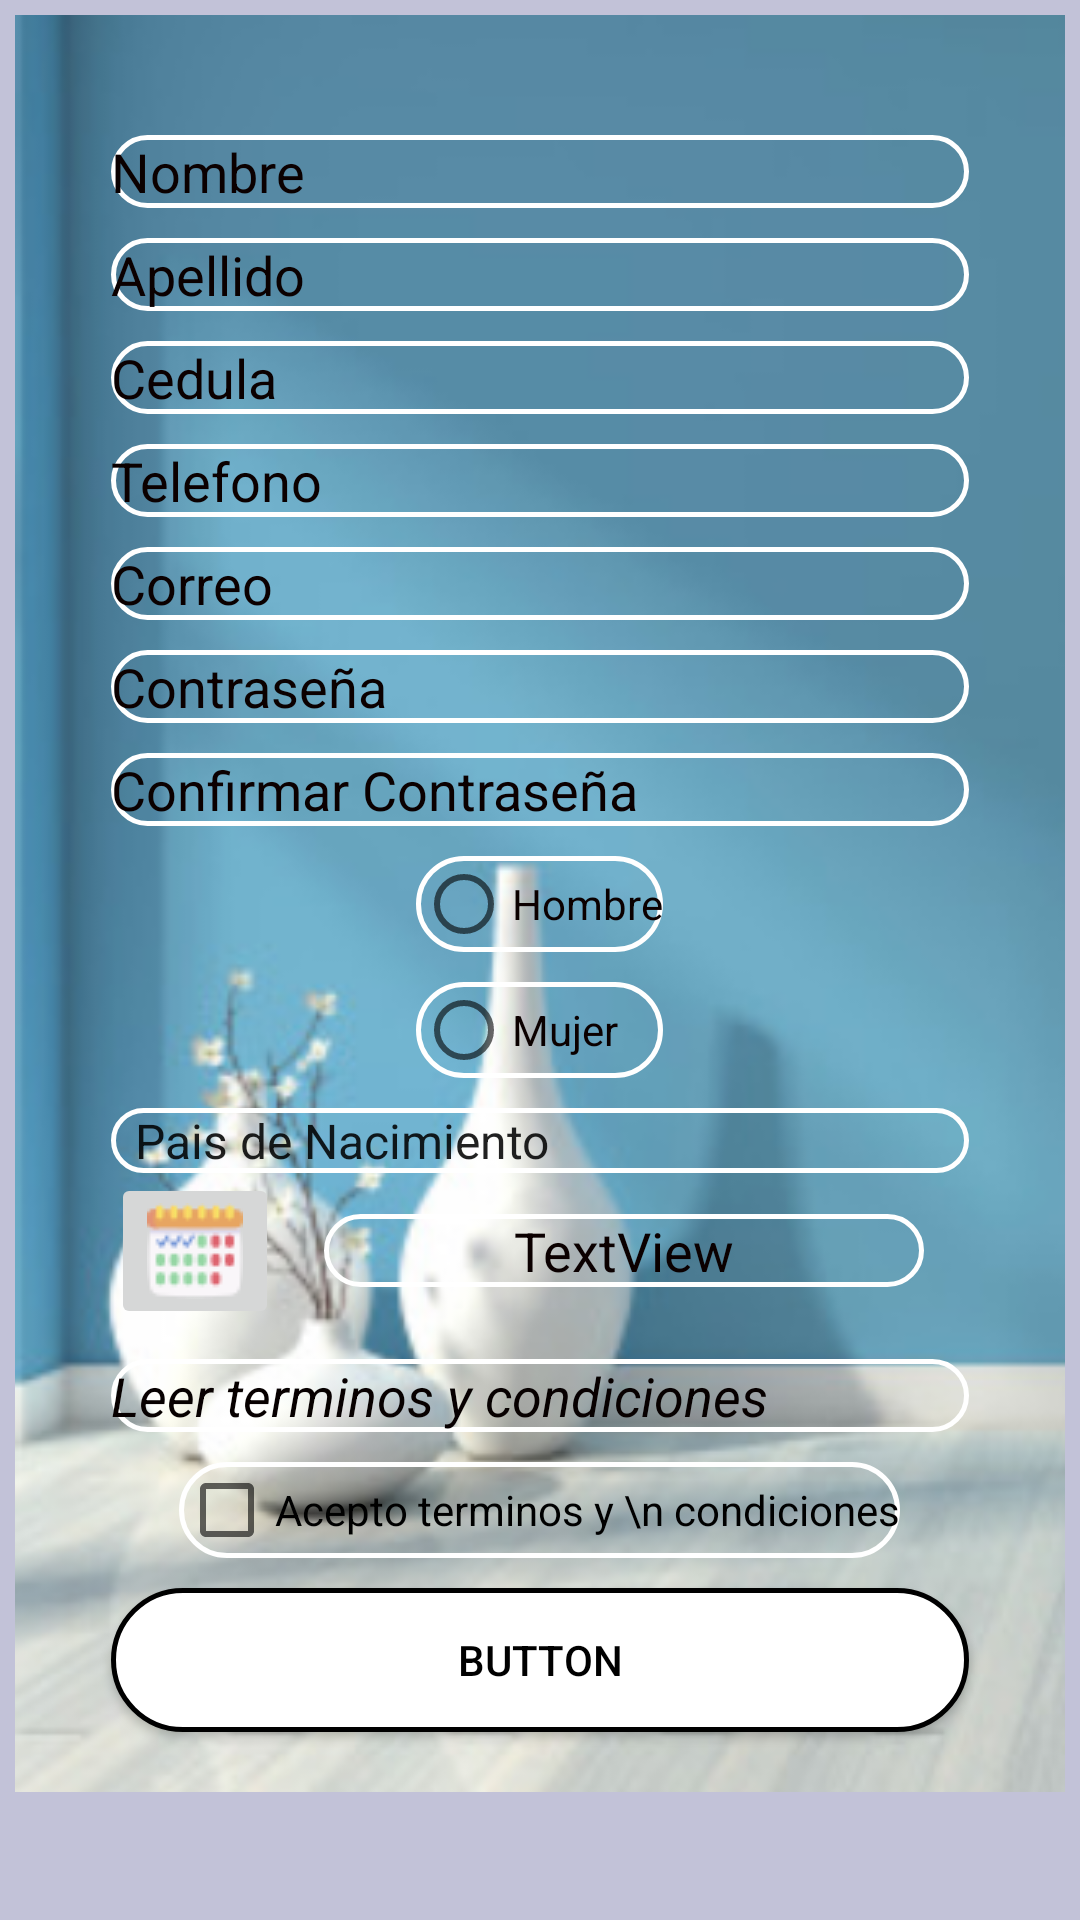

Point at icon controls on the screen. Image size 1080px x 1920px, points as (x=x, y=y).
calendar: (x=195, y=1251)
